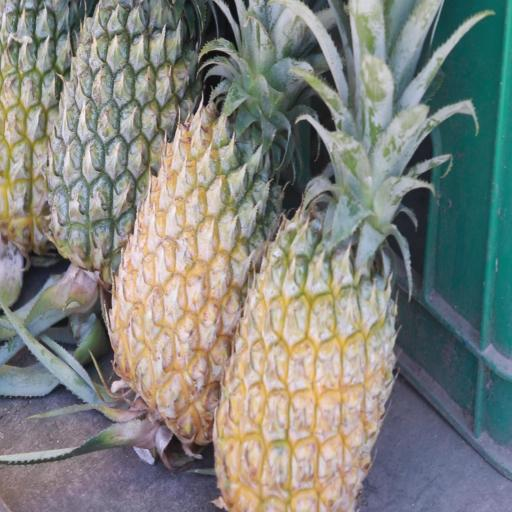Pineapple - v8 v1: (211, 67, 398, 512), (102, 0, 287, 449)
